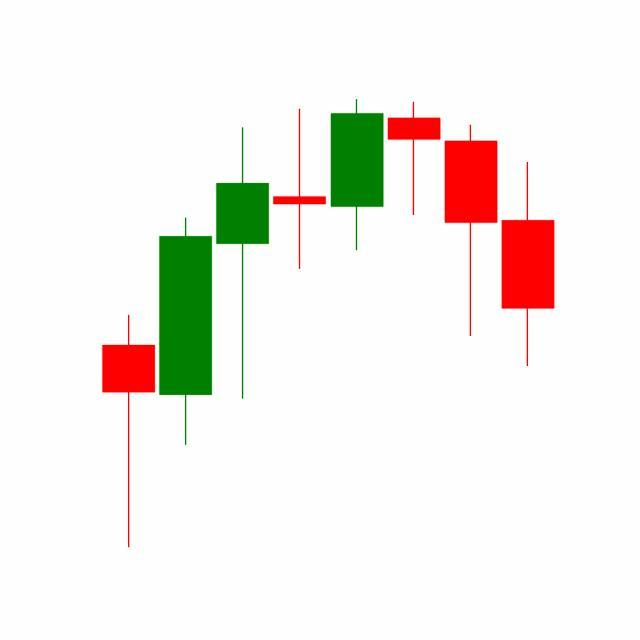Hikkake Pattern: (214, 100, 501, 404)
